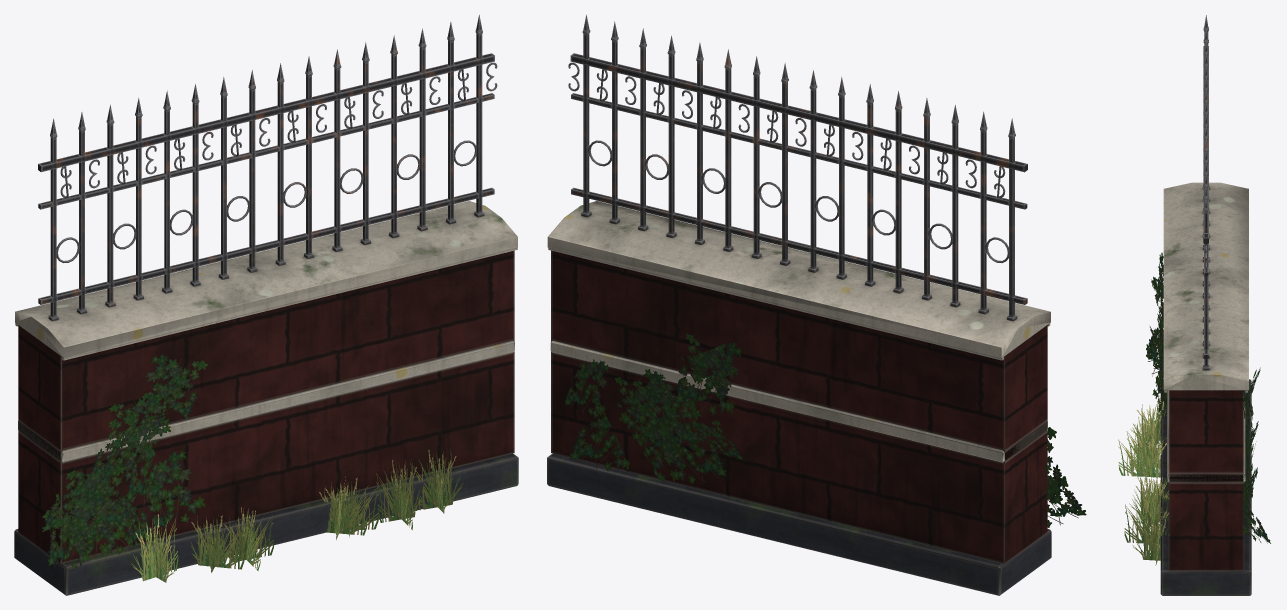
File: BrickWallIron.fbx
3 renders of one model, left to right at view 1: azimuth 30°, elevation 25°; view 2: azimuth 150°, elevation 25°; view 3: azimuth 270°, elevation 25°, orthographic. The views are drawn at different scales.
Visible parts, largest first — view 1: BrickWallIron_Main, BrickWallIron_Leaves; view 2: BrickWallIron_Main, BrickWallIron_Leaves; view 3: BrickWallIron_Main, BrickWallIron_Leaves.
Part boxes in pixels (x1,y1,x2,y2): BrickWallIron_Main: [14, 15, 518, 595]; BrickWallIron_Leaves: [42, 354, 463, 582]; BrickWallIron_Main: [547, 14, 1051, 595]; BrickWallIron_Leaves: [565, 333, 1086, 527]; BrickWallIron_Main: [1160, 15, 1251, 595]; BrickWallIron_Leaves: [1118, 252, 1270, 565].
Size of the model in its own units: 856 by 769 by 272.
